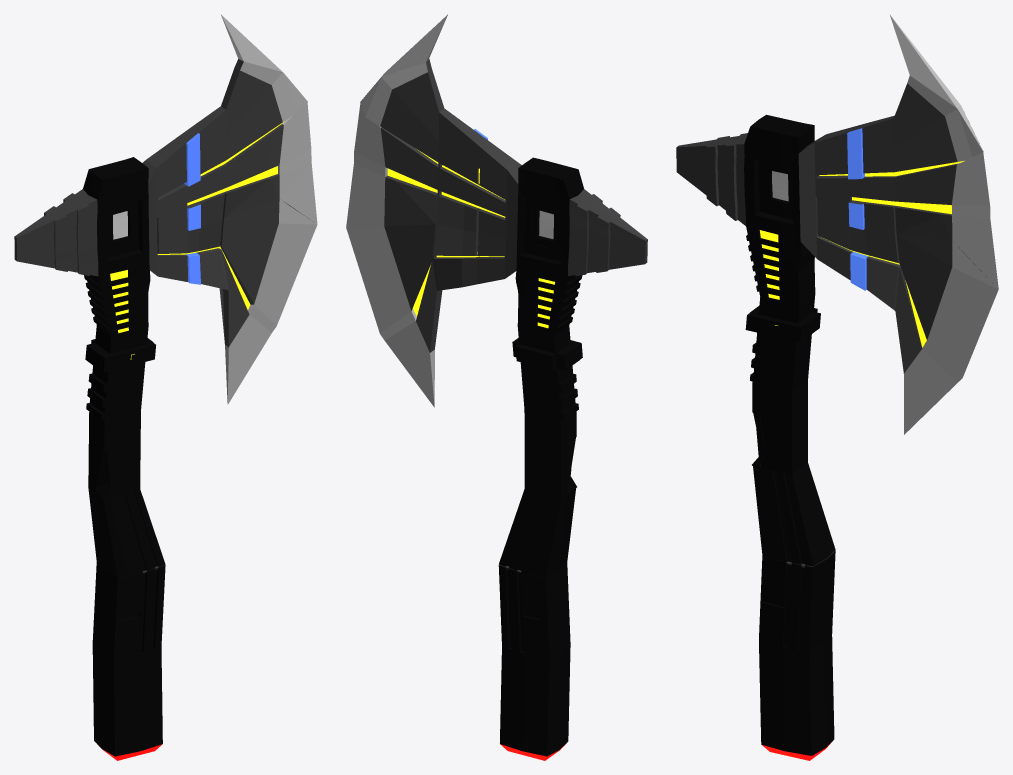
Rendered from aXE.fbx.
3 views of the same model, side by side, from view 1: azimuth 30°, elevation 25°; view 2: azimuth 150°, elevation 25°; view 3: azimuth 330°, elevation 25° (orthographic). The views are drawn at different scales.
Parts seen in each view (by area): view 1: Plane; view 2: Plane; view 3: Plane.
Boxes of the visible parts, bbox=[...] form: Plane: bbox=[14, 14, 317, 760]; Plane: bbox=[346, 14, 647, 760]; Plane: bbox=[676, 14, 998, 760].
Bounding box in the file's own units: 47.59 × 108 × 6.7.
